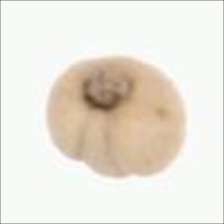L5: (72, 105, 124, 179), (80, 65, 137, 110)
L6: (44, 52, 189, 182)
